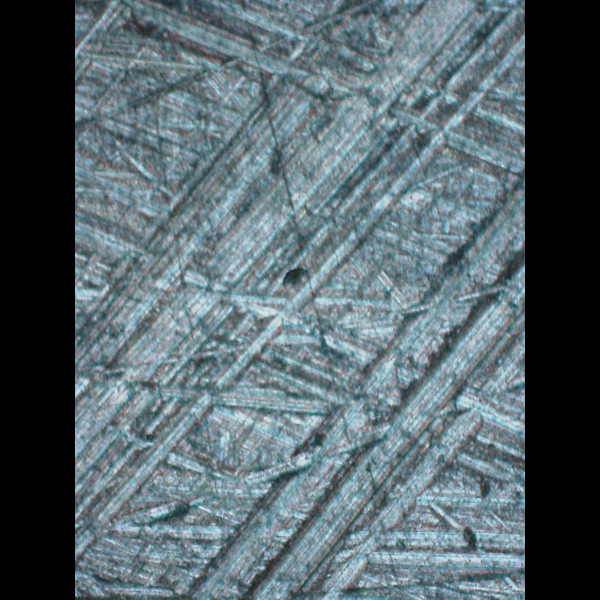d: (75, 12, 520, 600)
